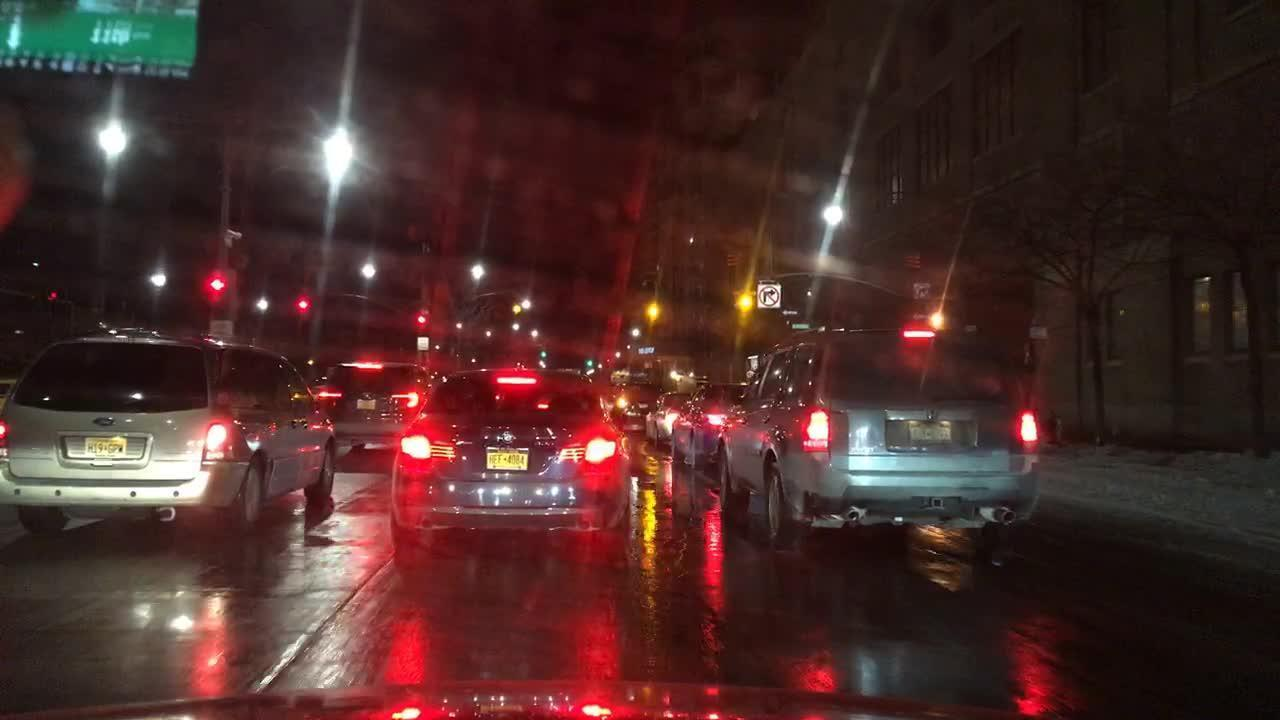bmw: (491, 429, 525, 450)
